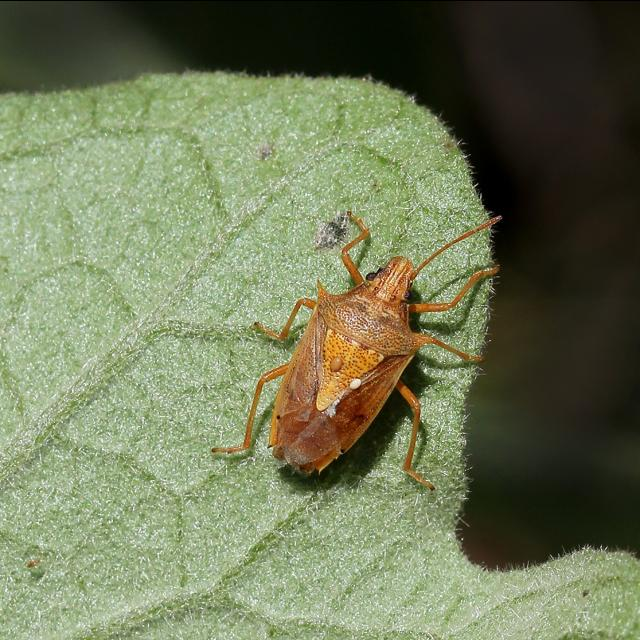stink_bug: (219, 202, 509, 494)
